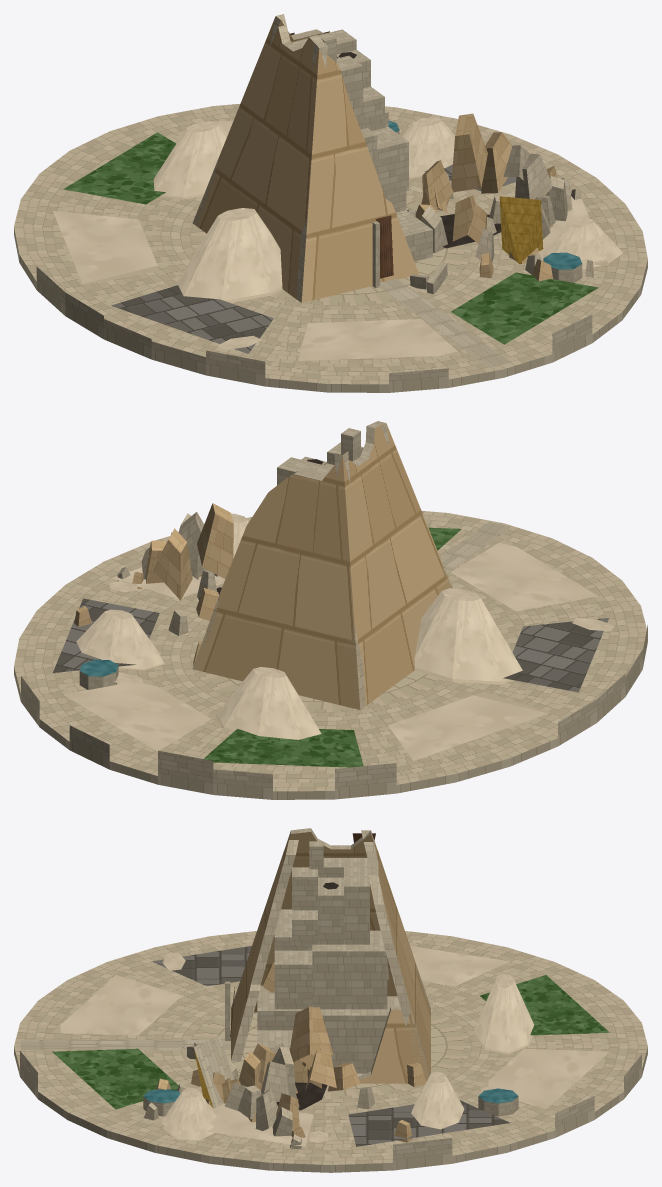
Rendered from pyramid_small_destroyed_lod0.glb.
3 renders of one model, top to bottom at view 1: azimuth 30°, elevation 25°; view 2: azimuth 150°, elevation 25°; view 3: azimuth 270°, elevation 25°, orthographic. The views are drawn at different scales.
Parts seen in each view (by area): view 1: pyramid_small_destroyed_lod0; view 2: pyramid_small_destroyed_lod0; view 3: pyramid_small_destroyed_lod0.
Part boxes in pixels (x1,y1,x2,y2): pyramid_small_destroyed_lod0: (14,14,647,392); pyramid_small_destroyed_lod0: (14,421,647,799); pyramid_small_destroyed_lod0: (14,828,647,1172).
Size of the model in its own units: 1.7 by 0.7273 by 1.91.
Materials: 1 (1 with a texture image).
